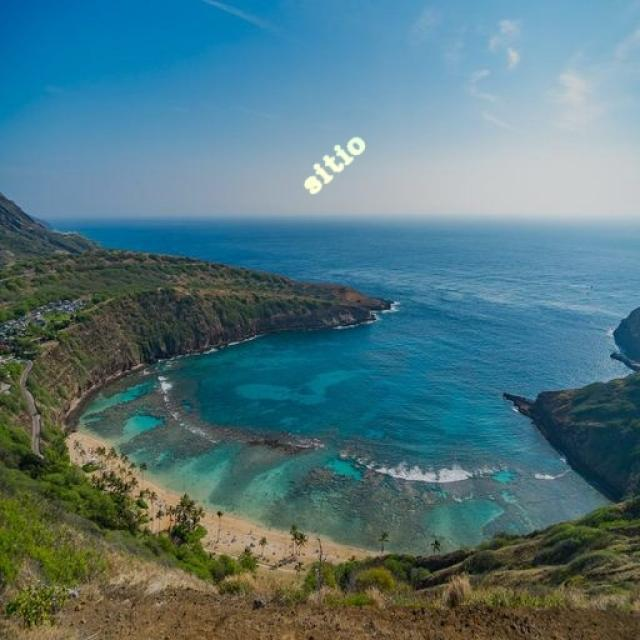watermark: (303, 123, 367, 200)
